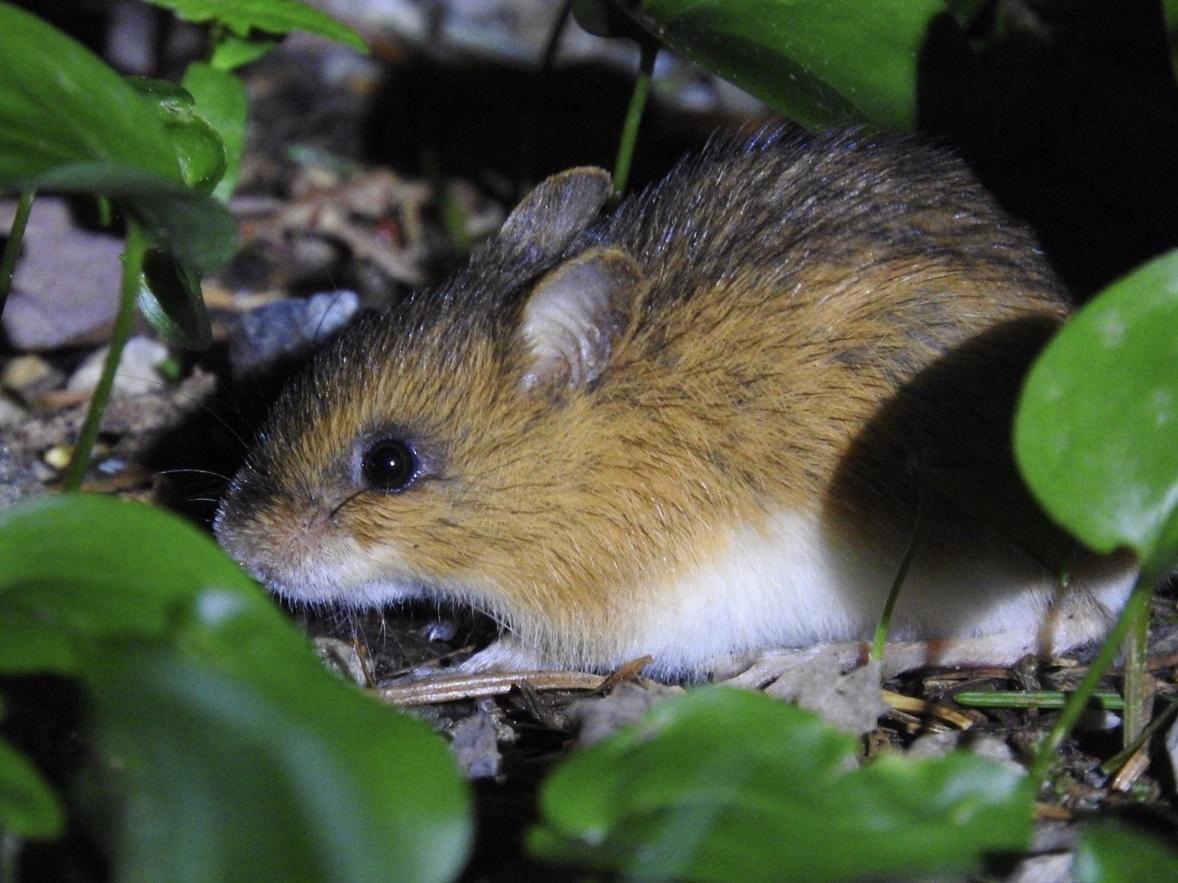rat: (213, 134, 1137, 668)
